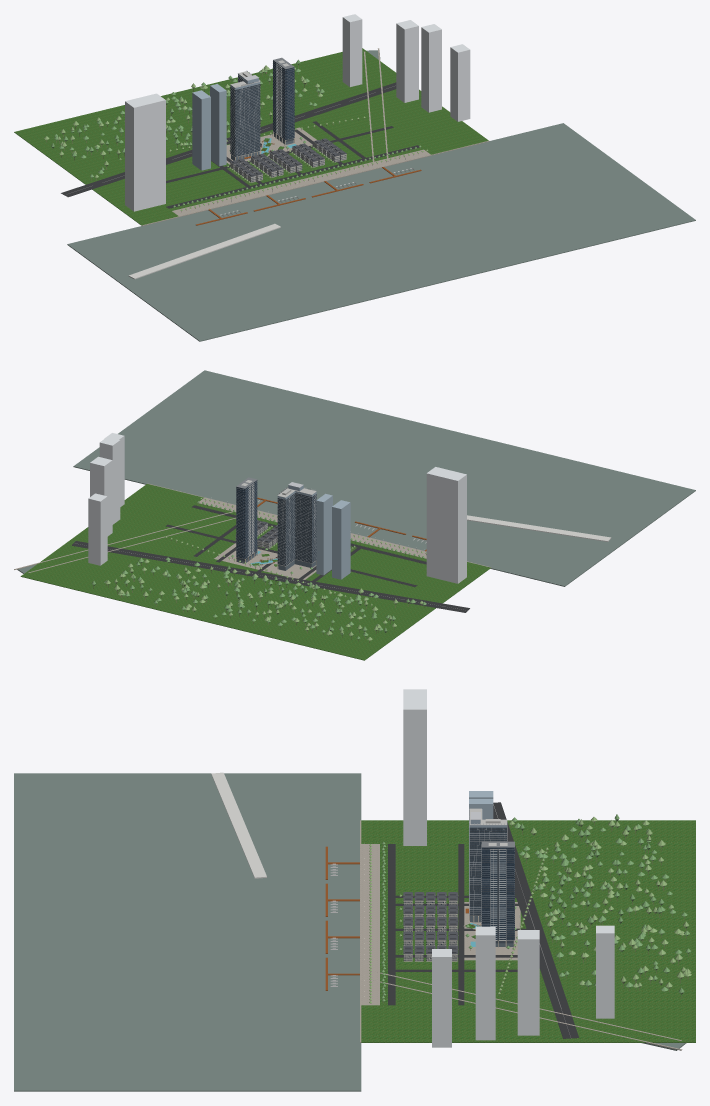
File: grand-marina-lake-sea-opt_1.glb
The picture shows the model from 3 angles, top to bottom: view 1: azimuth 30°, elevation 25°; view 2: azimuth 150°, elevation 25°; view 3: azimuth 270°, elevation 25°; orthographic projection. The views are drawn at different scales.
Parts seen in each view (by area): view 1: Site_Water_q, Site_Ground_q, Context_Buildings_q, Site_Roads_q, Site_Trees_q, Site_Villas_q, SEA_Tower_q, LAKE_Tower_q, Site_Marina_q; view 2: Site_Water_q, Site_Ground_q, Context_Buildings_q, Site_Roads_q, Site_Trees_q, SEA_Tower_q, LAKE_Tower_q, Site_Villas_q; view 3: Site_Water_q, Site_Ground_q, Context_Buildings_q, Site_Roads_q, Site_Trees_q, Site_Villas_q, LAKE_Tower_q, SEA_Tower_q, Site_Marina_q.
Part boxes in pixels (x1,y1,x2,y2): Site_Water_q: (67, 50, 695, 341); Site_Ground_q: (14, 48, 489, 226); Context_Buildings_q: (125, 14, 470, 211); Site_Roads_q: (61, 82, 430, 279); Site_Trees_q: (44, 59, 428, 211); Site_Villas_q: (230, 138, 346, 182); SEA_Tower_q: (230, 71, 260, 156); LAKE_Tower_q: (273, 61, 294, 140); Site_Marina_q: (190, 132, 421, 225); Site_Water_q: (17, 370, 695, 586); Site_Ground_q: (14, 483, 491, 660); Context_Buildings_q: (88, 433, 466, 583); Site_Roads_q: (72, 497, 611, 612); Site_Trees_q: (91, 497, 426, 642); SEA_Tower_q: (277, 488, 316, 566); LAKE_Tower_q: (236, 481, 257, 558); Site_Villas_q: (235, 520, 350, 548); Site_Water_q: (14, 773, 686, 1091); Site_Ground_q: (360, 820, 695, 1050); Context_Buildings_q: (403, 689, 614, 1047); Site_Roads_q: (211, 772, 578, 1038); Site_Trees_q: (369, 814, 691, 1003); Site_Villas_q: (403, 892, 457, 961); LAKE_Tower_q: (481, 844, 514, 940); SEA_Tower_q: (469, 808, 507, 915); Site_Marina_q: (325, 843, 519, 996).
Size of the model in its own units: 1200 by 243 by 1090.
Materials: 28 (10 with a texture image).
